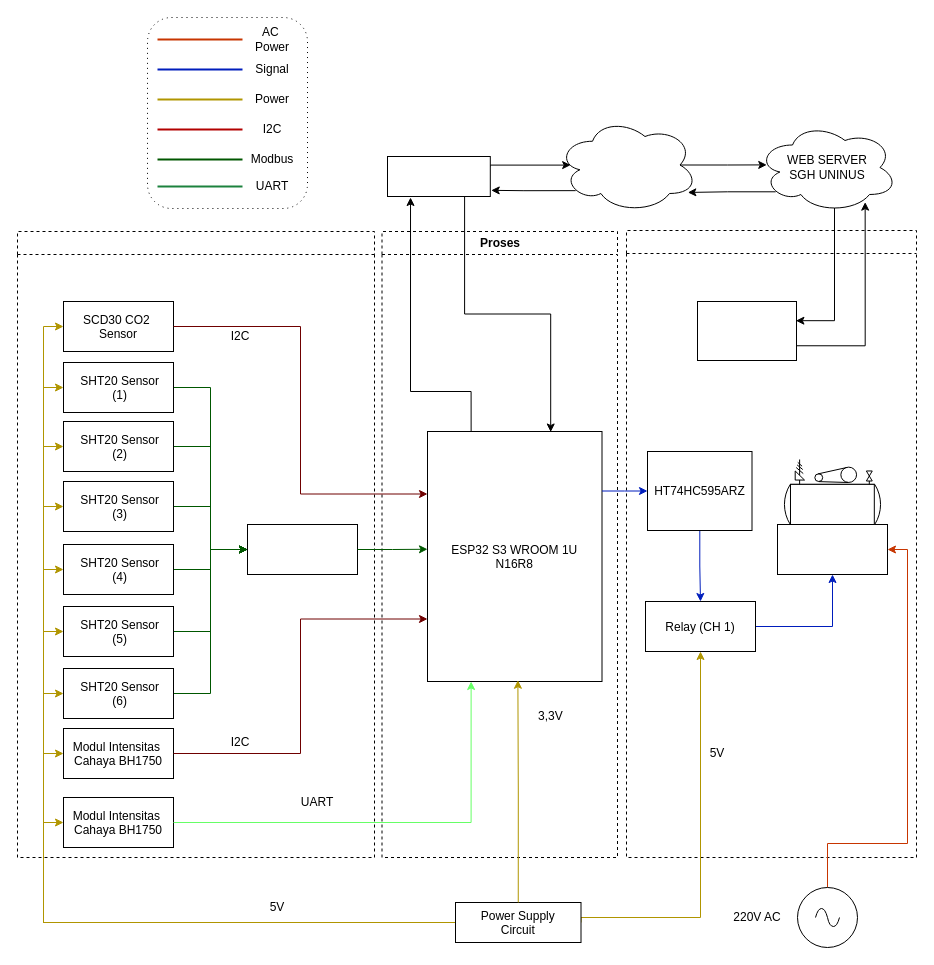
The diagram is 934 pixels wide and 965 high, and some of its shapes have lost their labels. The box of each missing label's shape, as (x1, y1, x2, y2) in pixels:
Access Point: (386, 156, 490, 196)
Converter Modbus RS485 To TTL: (246, 524, 358, 574)
Cooling System: (776, 524, 888, 574)
Input: (16, 230, 374, 858)
Internet Service Provider MQTT Broker: (556, 116, 698, 212)
Output: (626, 230, 916, 858)
WEB Dashboard (SGH UNINUS): (696, 300, 796, 360)
